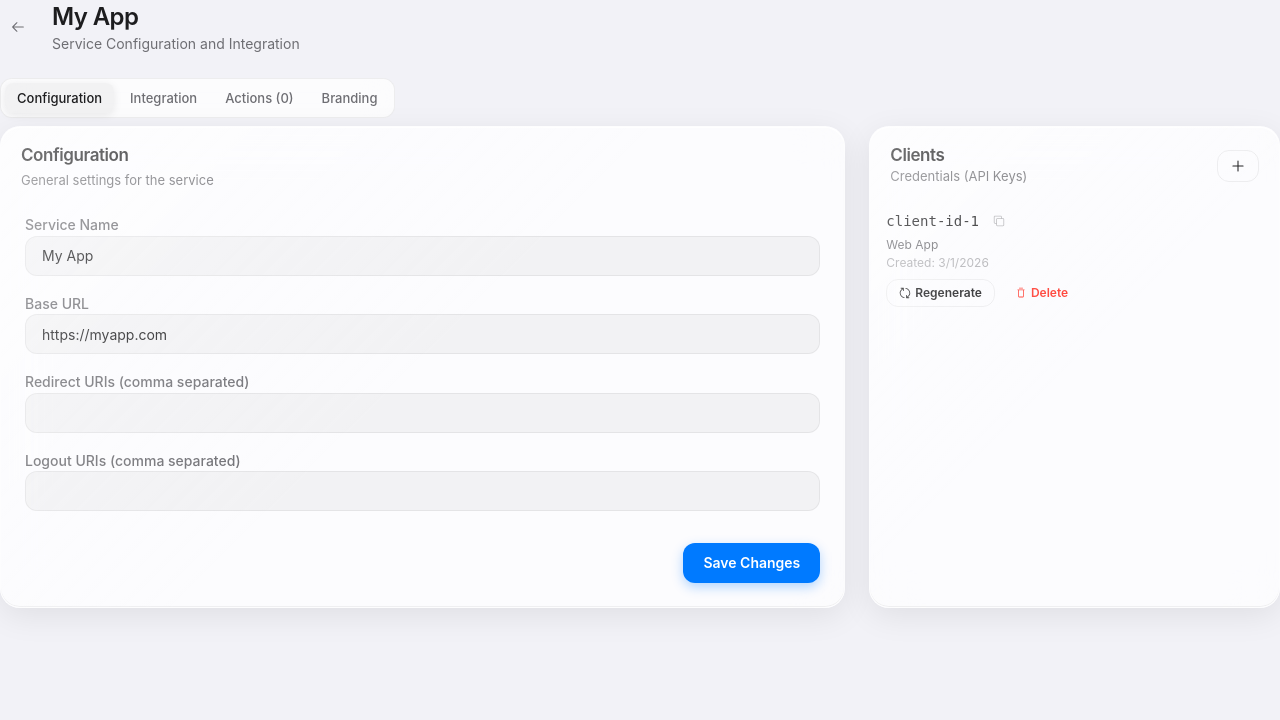
Service Detail Page › closes the secret dialog via the Close button
The width and height of the screenshot is (1280, 720).
Expected: the text "client-id-1" is shown, [886,212,979,232]
# Regenerate to get the secret dialog open
Click the button "Regenerate": (941, 294) [886,280,995,308]
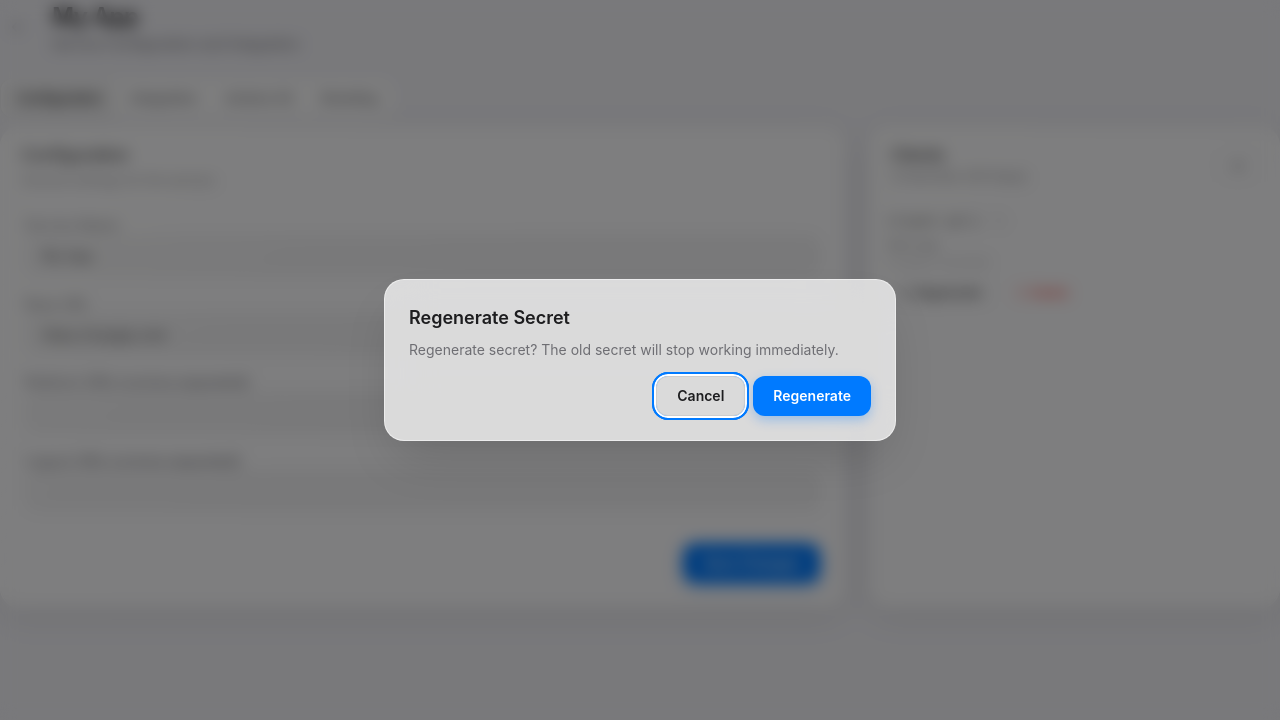
Expected: the heading with test id "confirm-dialog-title" reads "Regenerate Secret", [409,307,570,328]
Click the button with test id "confirm-dialog-action": (812, 396) [753,376,871,416]
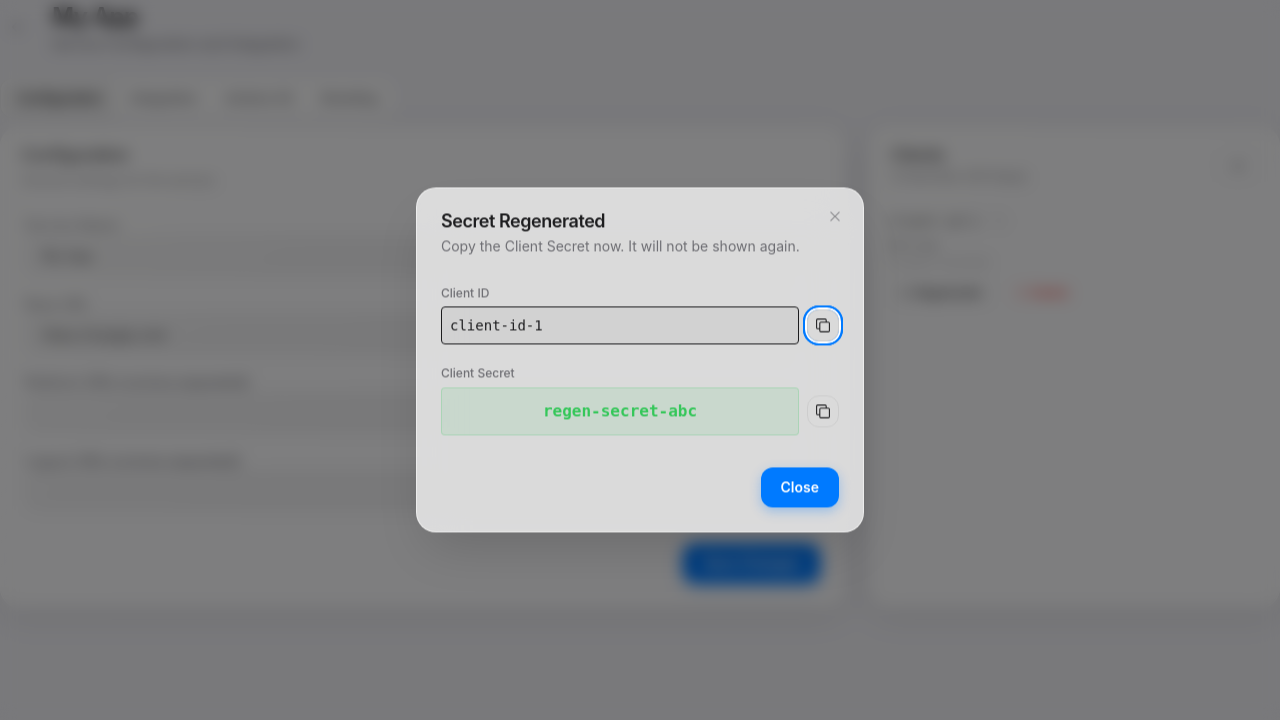
Expected: the text "regen-secret-abc" is shown, [441,387,799,436]
Expected: the button "Close" is shown
Click the button "Close": (800, 488) [760,468,839,508]
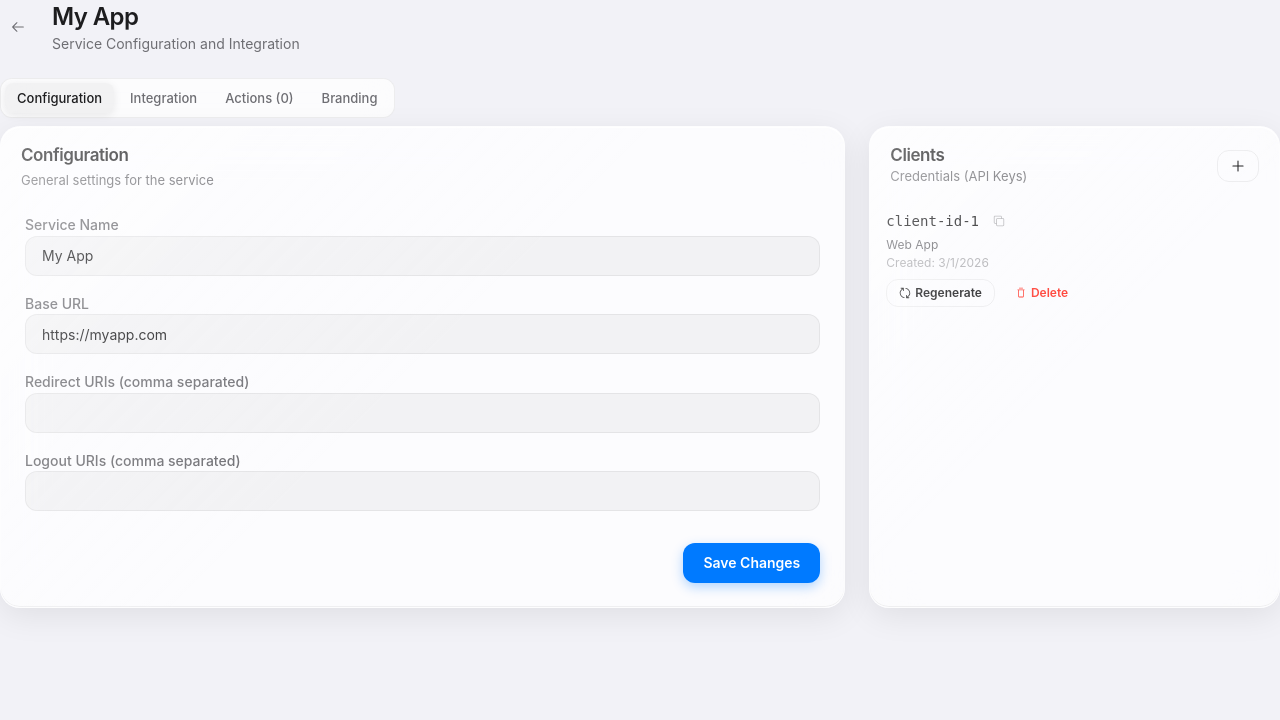
Expected: the text "regen-secret-abc" is gone
